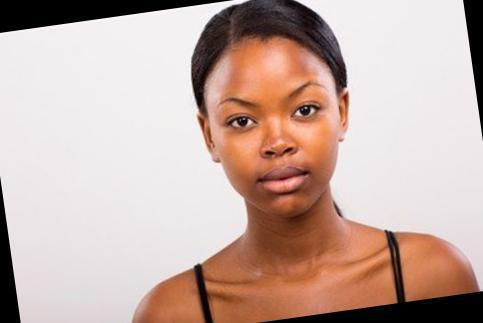Sober: (206, 52, 341, 205)
